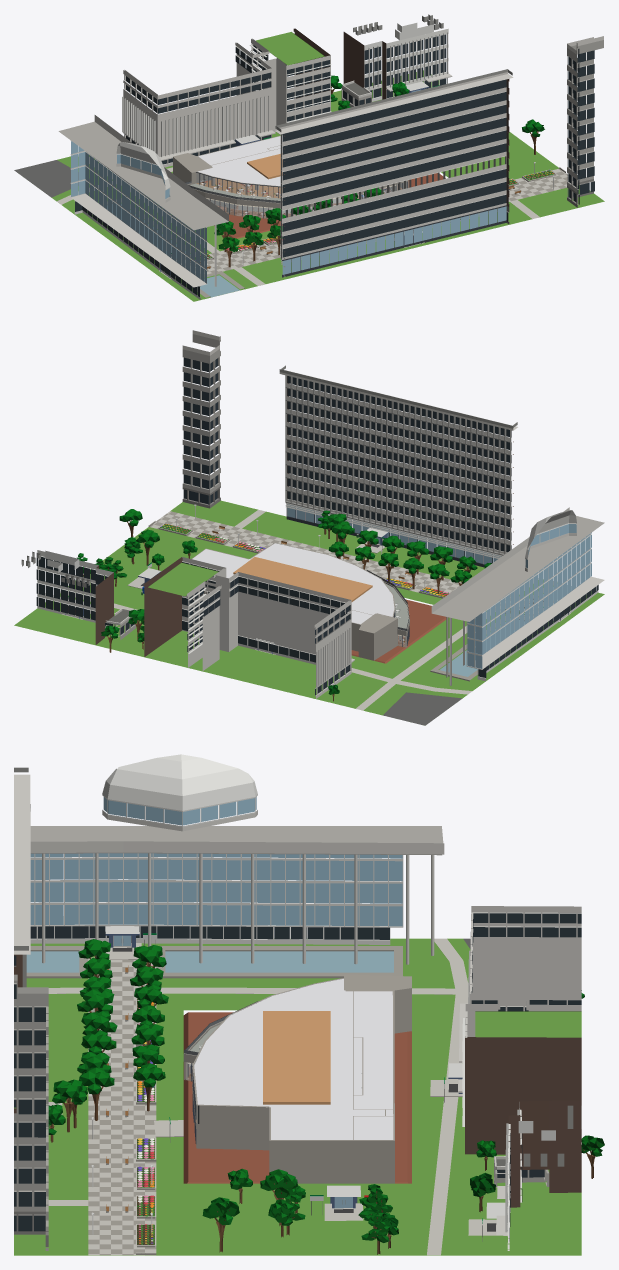
The model's file is cafeteria.fbx.
3 renders of one model, top to bottom at view 1: azimuth 30°, elevation 25°; view 2: azimuth 150°, elevation 25°; view 3: azimuth 270°, elevation 25°, orthographic. The views are drawn at different scales.
Visible parts, largest first — view 1: ext_cafeteria, wall_cafeteria, ext_cafeteria_trees, floor_cafeteria; view 2: ext_cafeteria, wall_cafeteria, ext_cafeteria_trees, floor_cafeteria; view 3: ext_cafeteria, wall_cafeteria, ext_cafeteria_trees, floor_cafeteria.
Boxes of the visible parts, x1,y1,x2,y2 form: ext_cafeteria: [14, 14, 604, 301]; wall_cafeteria: [173, 135, 408, 218]; ext_cafeteria_trees: [214, 75, 544, 267]; floor_cafeteria: [190, 173, 445, 238]; ext_cafeteria: [14, 330, 604, 725]; wall_cafeteria: [192, 542, 409, 660]; ext_cafeteria_trees: [77, 509, 492, 701]; floor_cafeteria: [351, 583, 448, 663]; ext_cafeteria: [14, 754, 581, 1255]; wall_cafeteria: [183, 974, 411, 1183]; ext_cafeteria_trees: [48, 939, 604, 1254]; floor_cafeteria: [183, 1012, 411, 1183].
Bounding box in the file's own units: 135 × 51.67 × 104.
